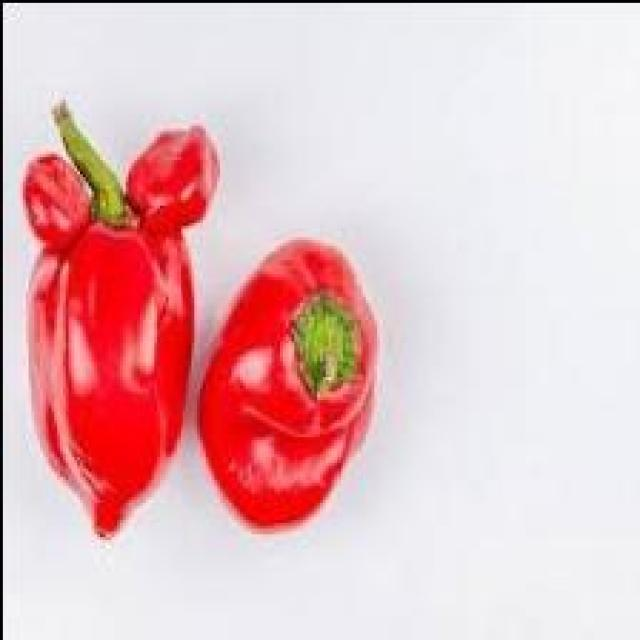Pepper: (20, 103, 223, 546), (197, 237, 383, 531)
